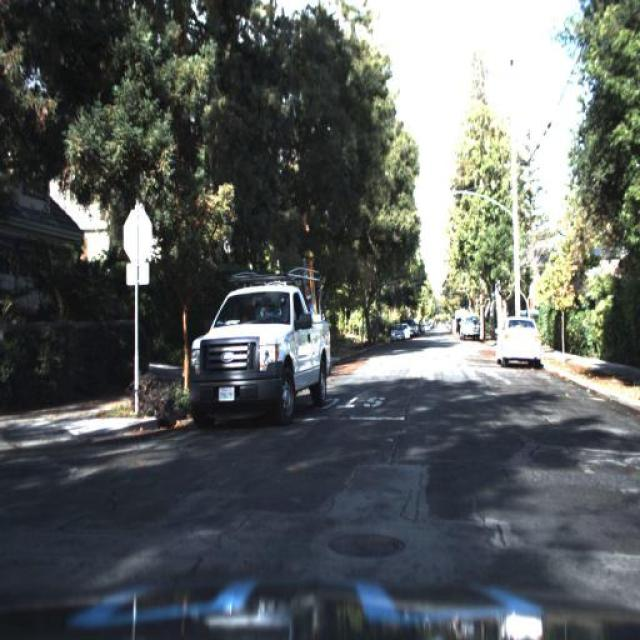car: (170, 240, 342, 436), (458, 306, 487, 350), (386, 322, 406, 349), (387, 323, 407, 348), (409, 320, 420, 340)
